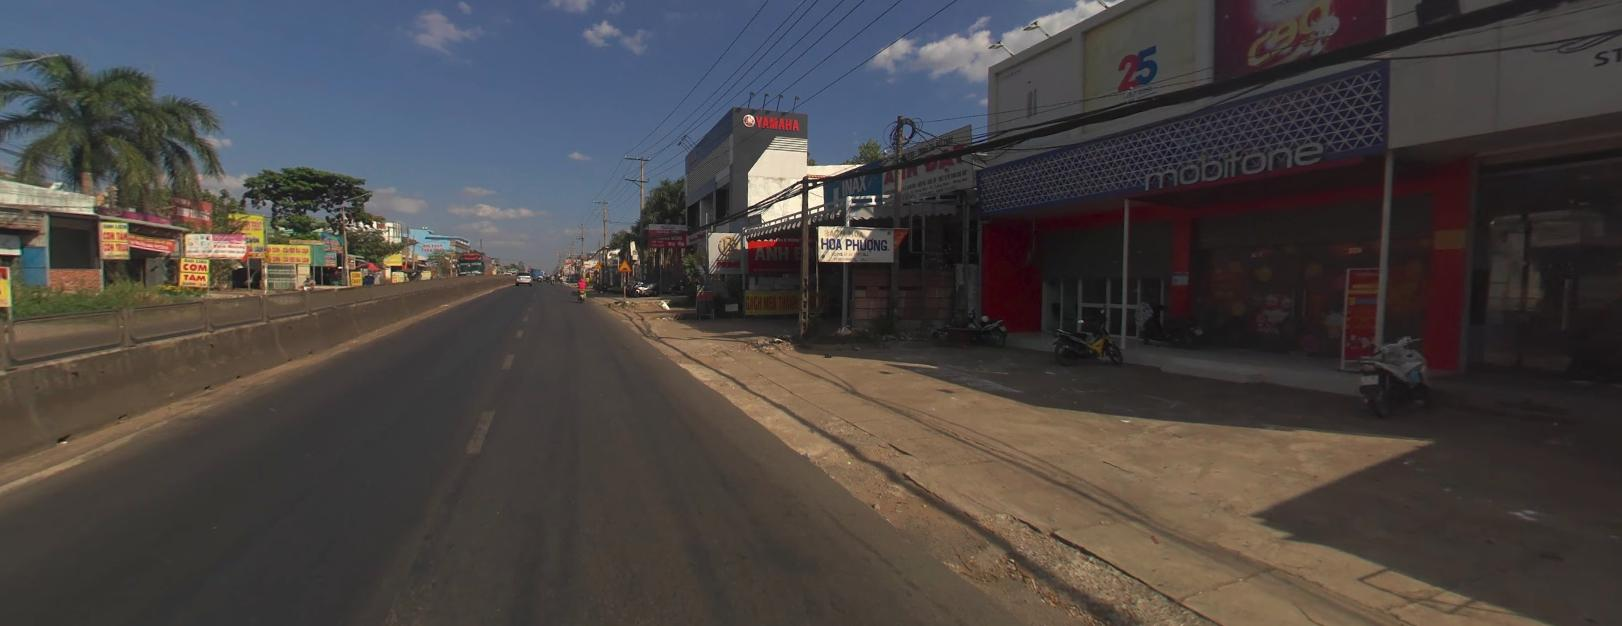Nguy hiem: (618, 258, 631, 270), (594, 261, 601, 267)
